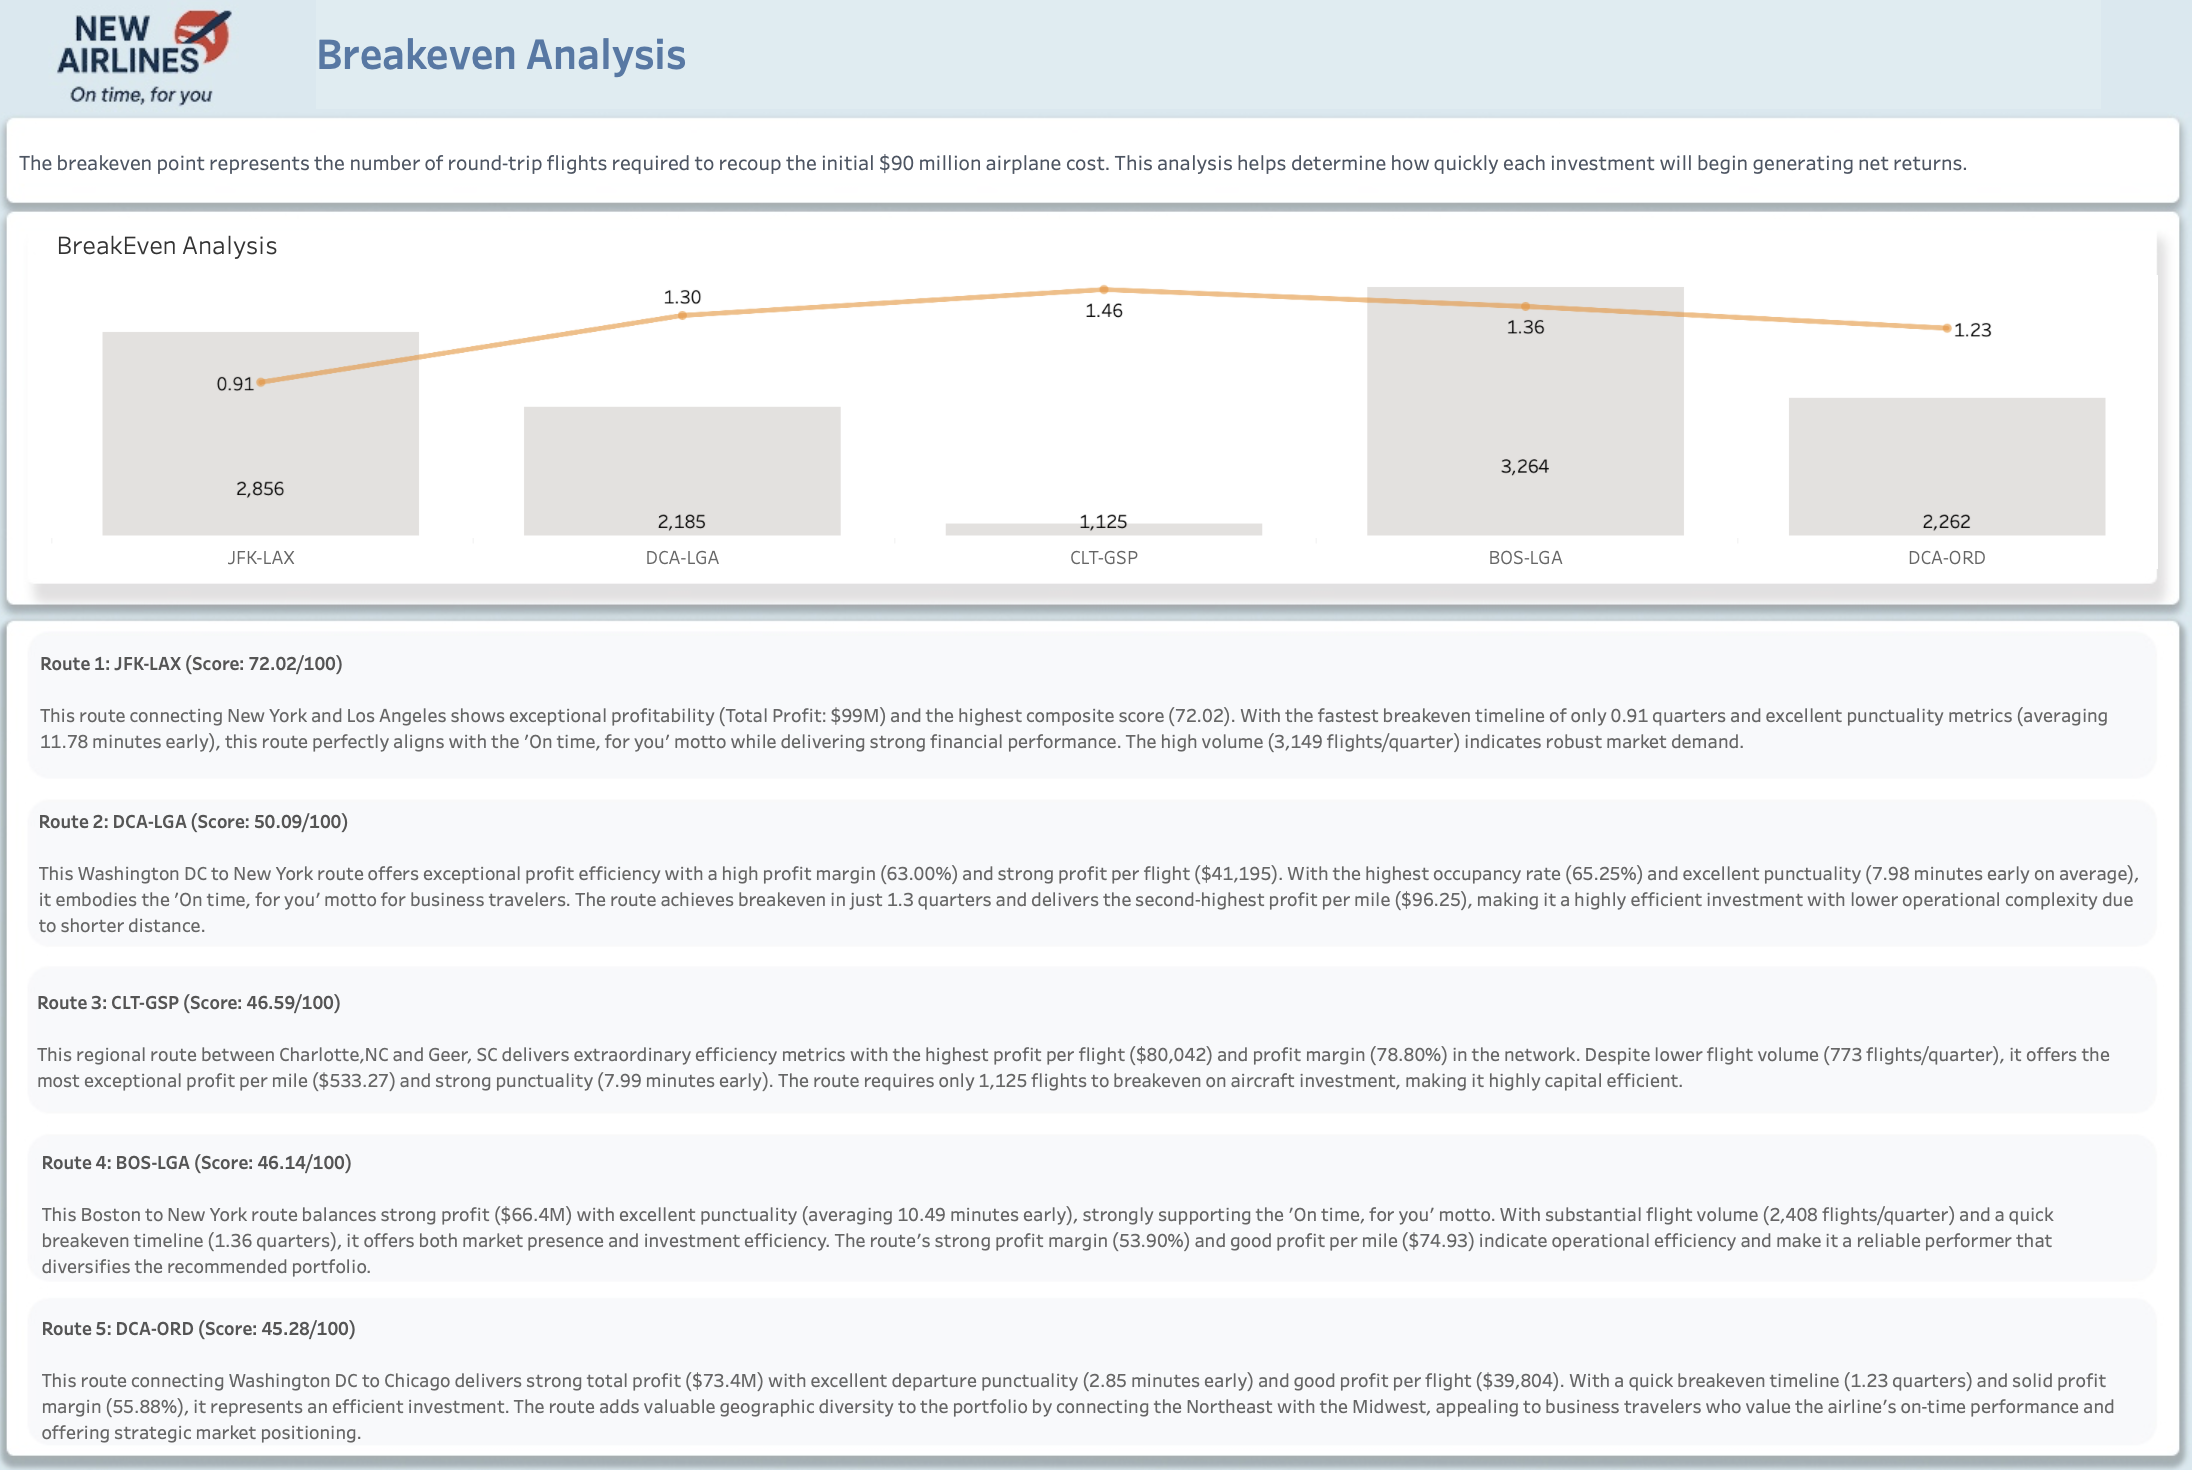

Layout of this report page (visuals, bound fields, positions):
{"tool":"tableau","page":{"name":"Breakeven Analysis","canvas":[1500,1000],"ordinal":0},"visuals":[{"type":"image","param":"Image/Breakeven.jpg","box":[0,0,1500,1000]},{"type":"text","box":[230,5,1190,76]},{"type":"text","box":[32,82,1453,68]},{"type":"worksheet","title":"BreakEven Analysis","mark":"Automatic","rows":["BREAKEVEN_ROUND_TRIP_FLIGHTS","Calculation_692639558551719938"],"cols":["CANONICAL_ROUTE_PAIR"],"box":[53,154,1405,234]},{"type":"text","box":[46,433,1400,86]},{"type":"text","box":[45,546,1402,88]},{"type":"text","box":[44,656,1410,92]},{"type":"text","box":[47,773,1400,89]},{"type":"text","box":[47,879,1404,98]}]}

Visuals, with their boxes in screenshot pixels (x1, y1, x2, y2), scaled from the page's 1500x1000 canvas onto the 2192x1470 screenshot:
image: crop(0, 0, 2191, 1469)
text: crop(336, 7, 2075, 119)
text: crop(47, 121, 2170, 220)
"BreakEven Analysis" worksheet: crop(77, 226, 2131, 570)
text: crop(67, 637, 2113, 763)
text: crop(66, 803, 2115, 932)
text: crop(64, 964, 2125, 1100)
text: crop(69, 1136, 2115, 1267)
text: crop(69, 1292, 2120, 1436)
